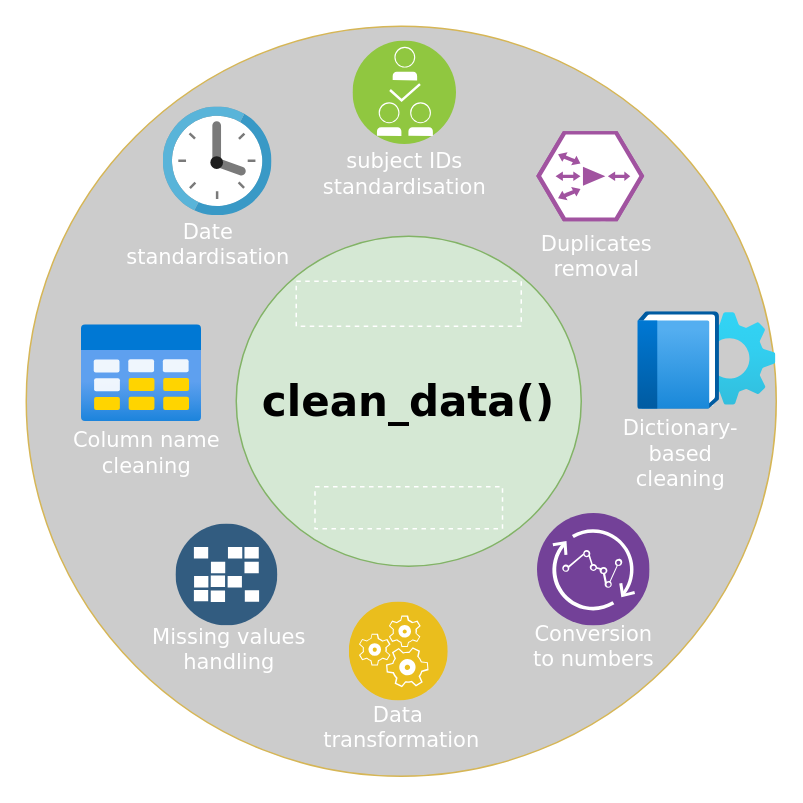
The diagram is 803 pixels wide and 803 high, and some of its shapes have lost their labels. Here are the shapes that lost their labels. From the top down, the centre of each, then its label:
At point (408, 303): "print_report()".
At point (408, 507): "scan_data()".
